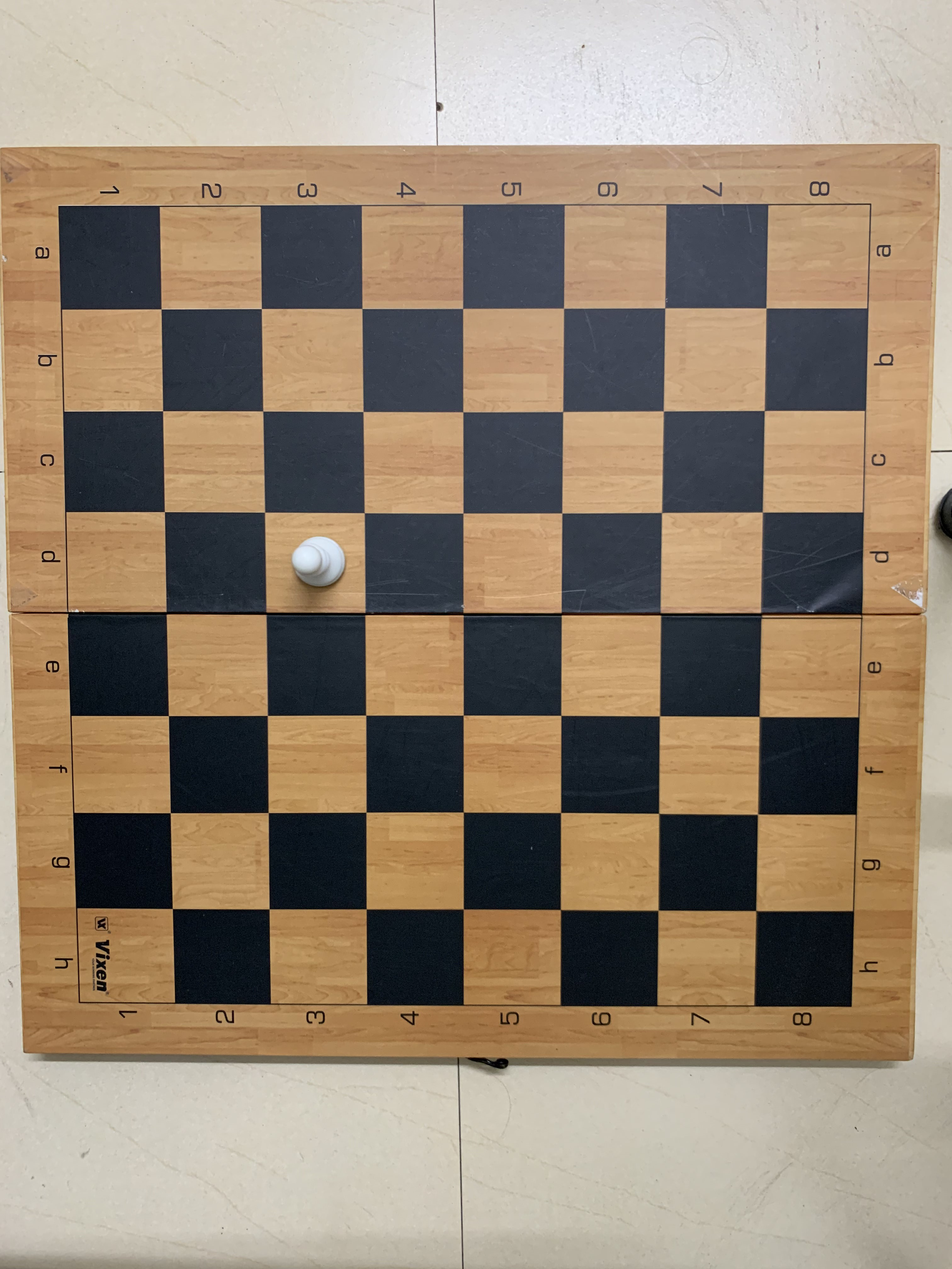white_pawn: (268, 512, 370, 614)
